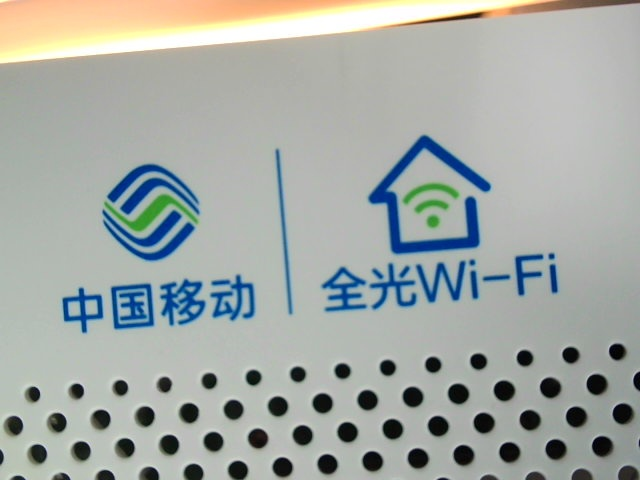BJ_QuanGuangMobile: (57, 124, 570, 342)
